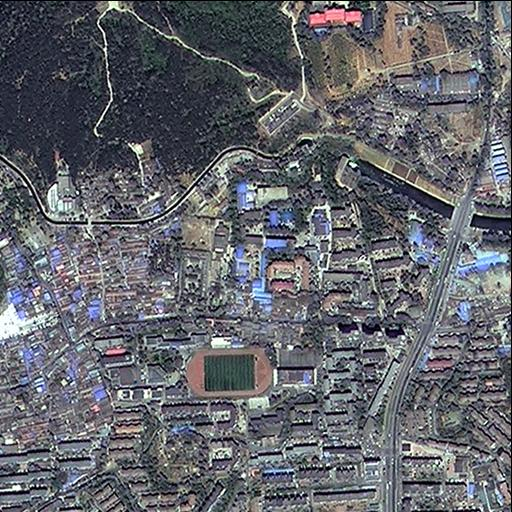school: (95, 335, 322, 397)
